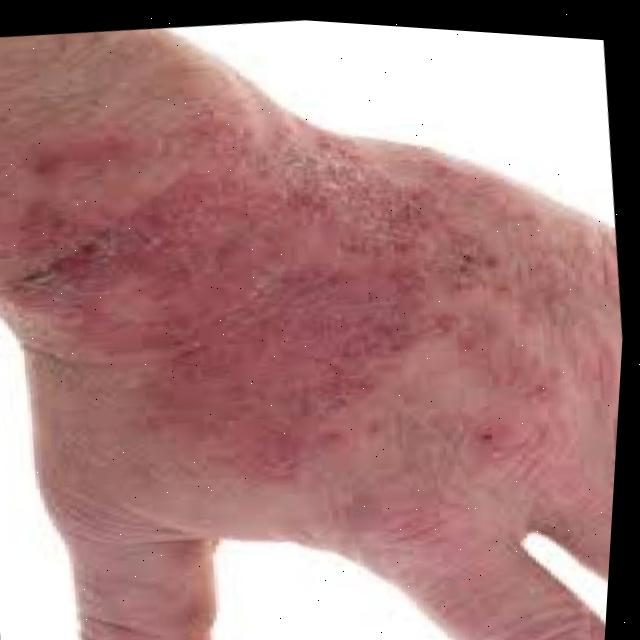Eczema: (1, 70, 549, 521)
